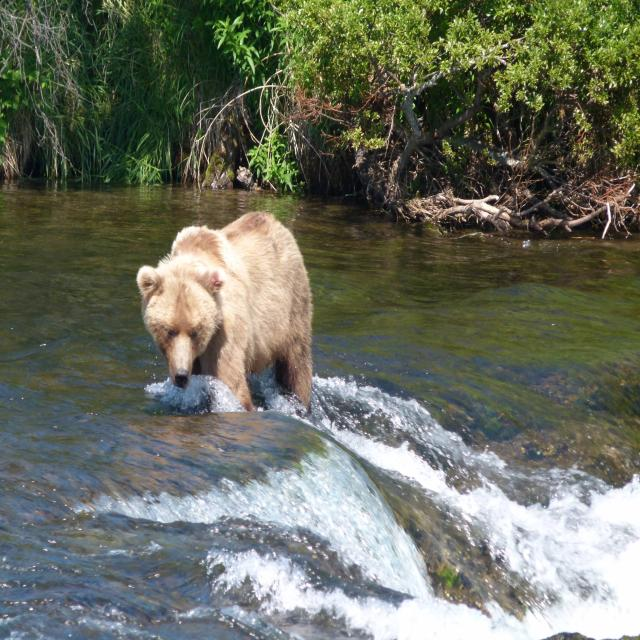bear face: (134, 209, 313, 410)
